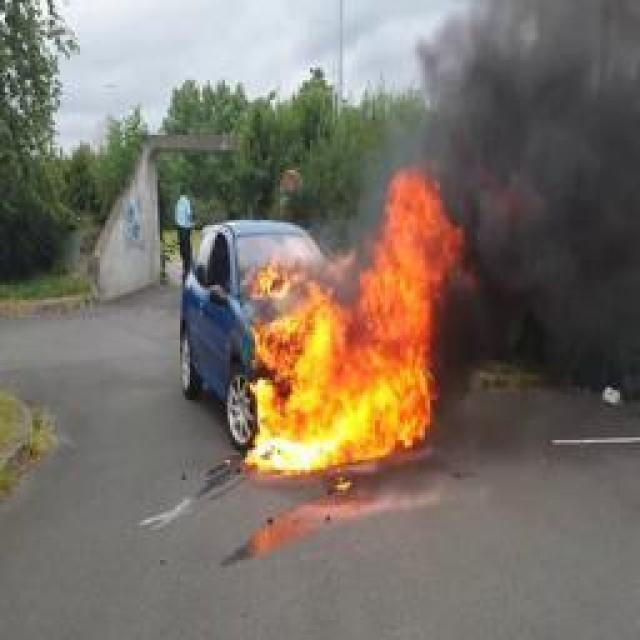Fire: (246, 162, 464, 472)
